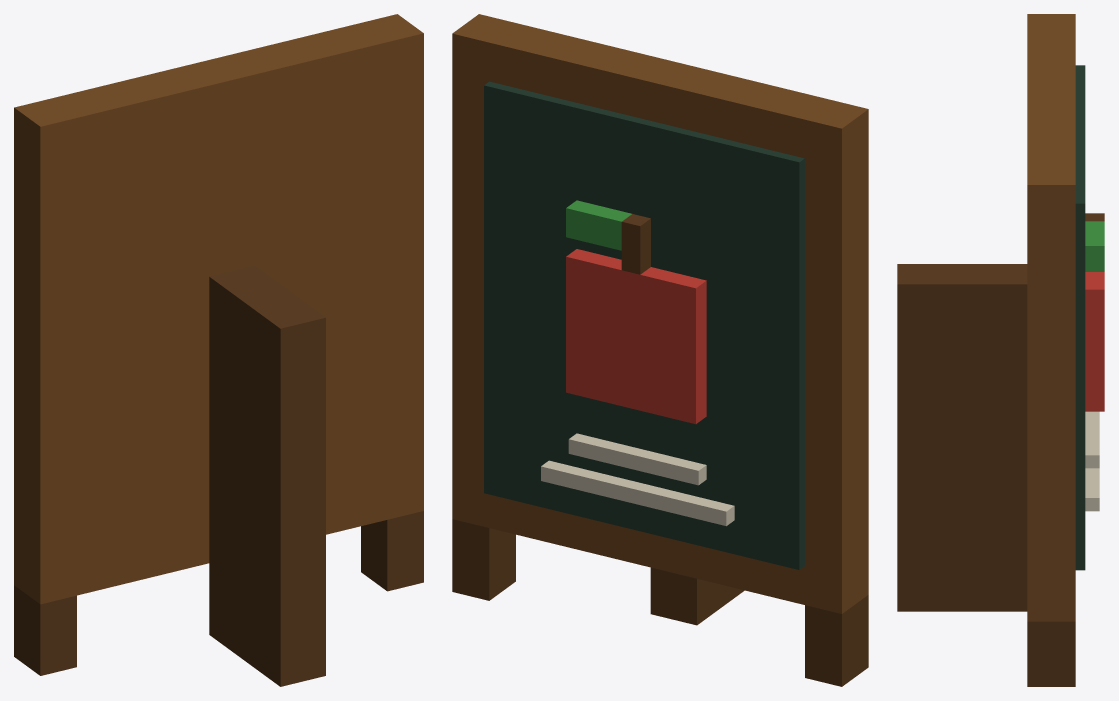
Rendered from cp-chalkboard-apple.glb.
3 views of the same model, side by side, from view 1: azimuth 30°, elevation 25°; view 2: azimuth 150°, elevation 25°; view 3: azimuth 270°, elevation 25° (orthographic). The views are drawn at different scales.
Parts seen in each view (by area): view 1: box-prop; view 2: box-prop; view 3: box-prop.
Part boxes in pixels (x1=…): box-prop: x1=14, y1=14, x2=423, y2=686; box-prop: x1=452, y1=14, x2=868, y2=686; box-prop: x1=897, y1=14, x2=1104, y2=686.
Bounding box in the file's own units: 0.84 × 1.15 × 0.43.
